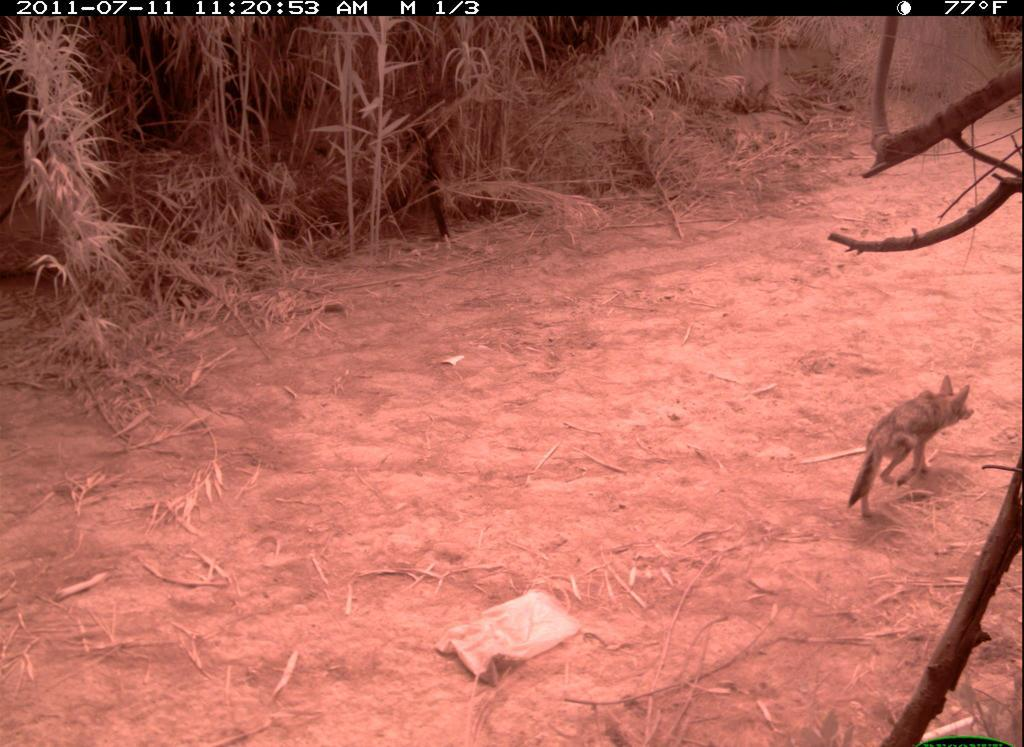coyote: (843, 372, 984, 532)
